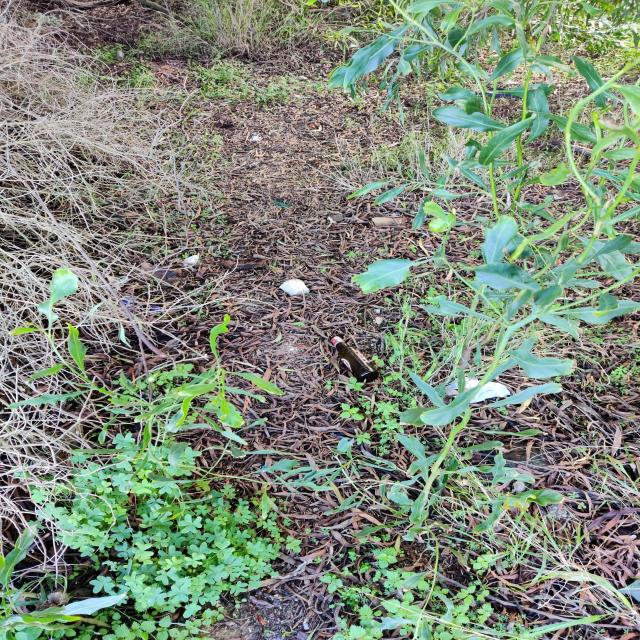litter: (329, 334, 378, 384)
